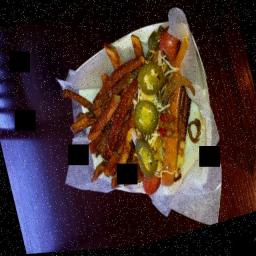hotdog: (154, 29, 184, 67), (140, 173, 164, 204)
